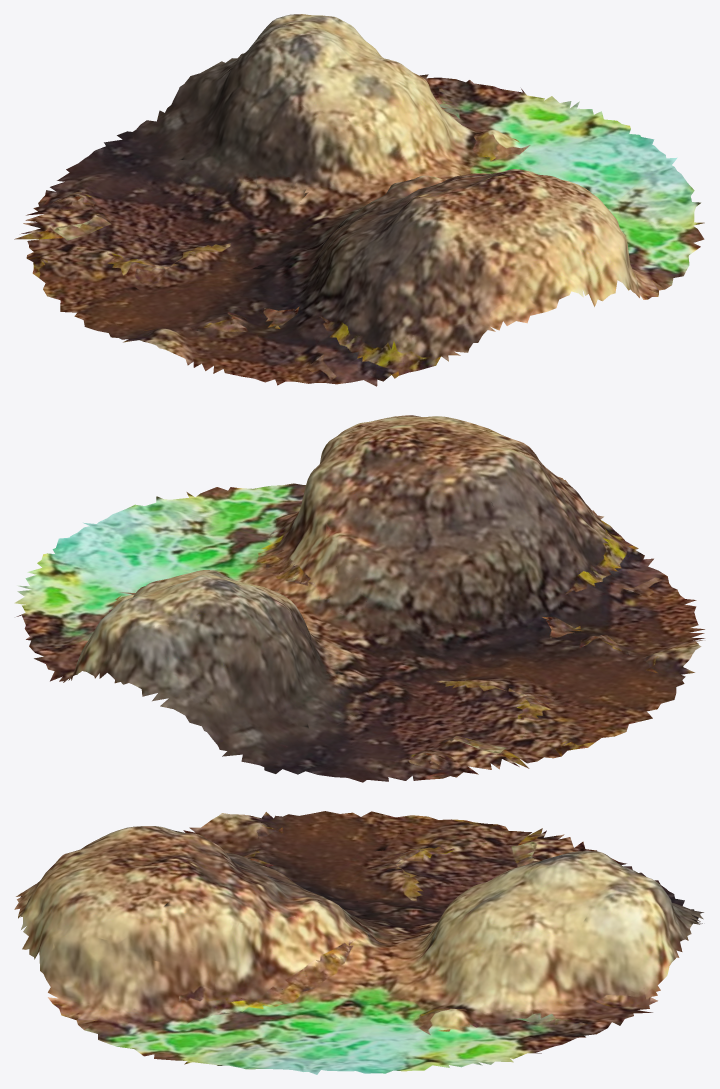
Rendered from dallol-twin-mounds.glb.
3 views of the same model, one above another, from view 1: azimuth 30°, elevation 25°; view 2: azimuth 150°, elevation 25°; view 3: azimuth 270°, elevation 25° (orthographic).
Parts seen in each view (by area): view 1: dallol-twin-mounds_LOD0; view 2: dallol-twin-mounds_LOD0; view 3: dallol-twin-mounds_LOD0.
Boxes of the visible parts, x1,y1,x2,y2 form: dallol-twin-mounds_LOD0: (14,14,704,386); dallol-twin-mounds_LOD0: (14,415,704,782); dallol-twin-mounds_LOD0: (14,811,703,1074).
Size of what is drawn, in the model's own units: 13.23 by 2.61 by 13.17.
1 material, 1 textured.
